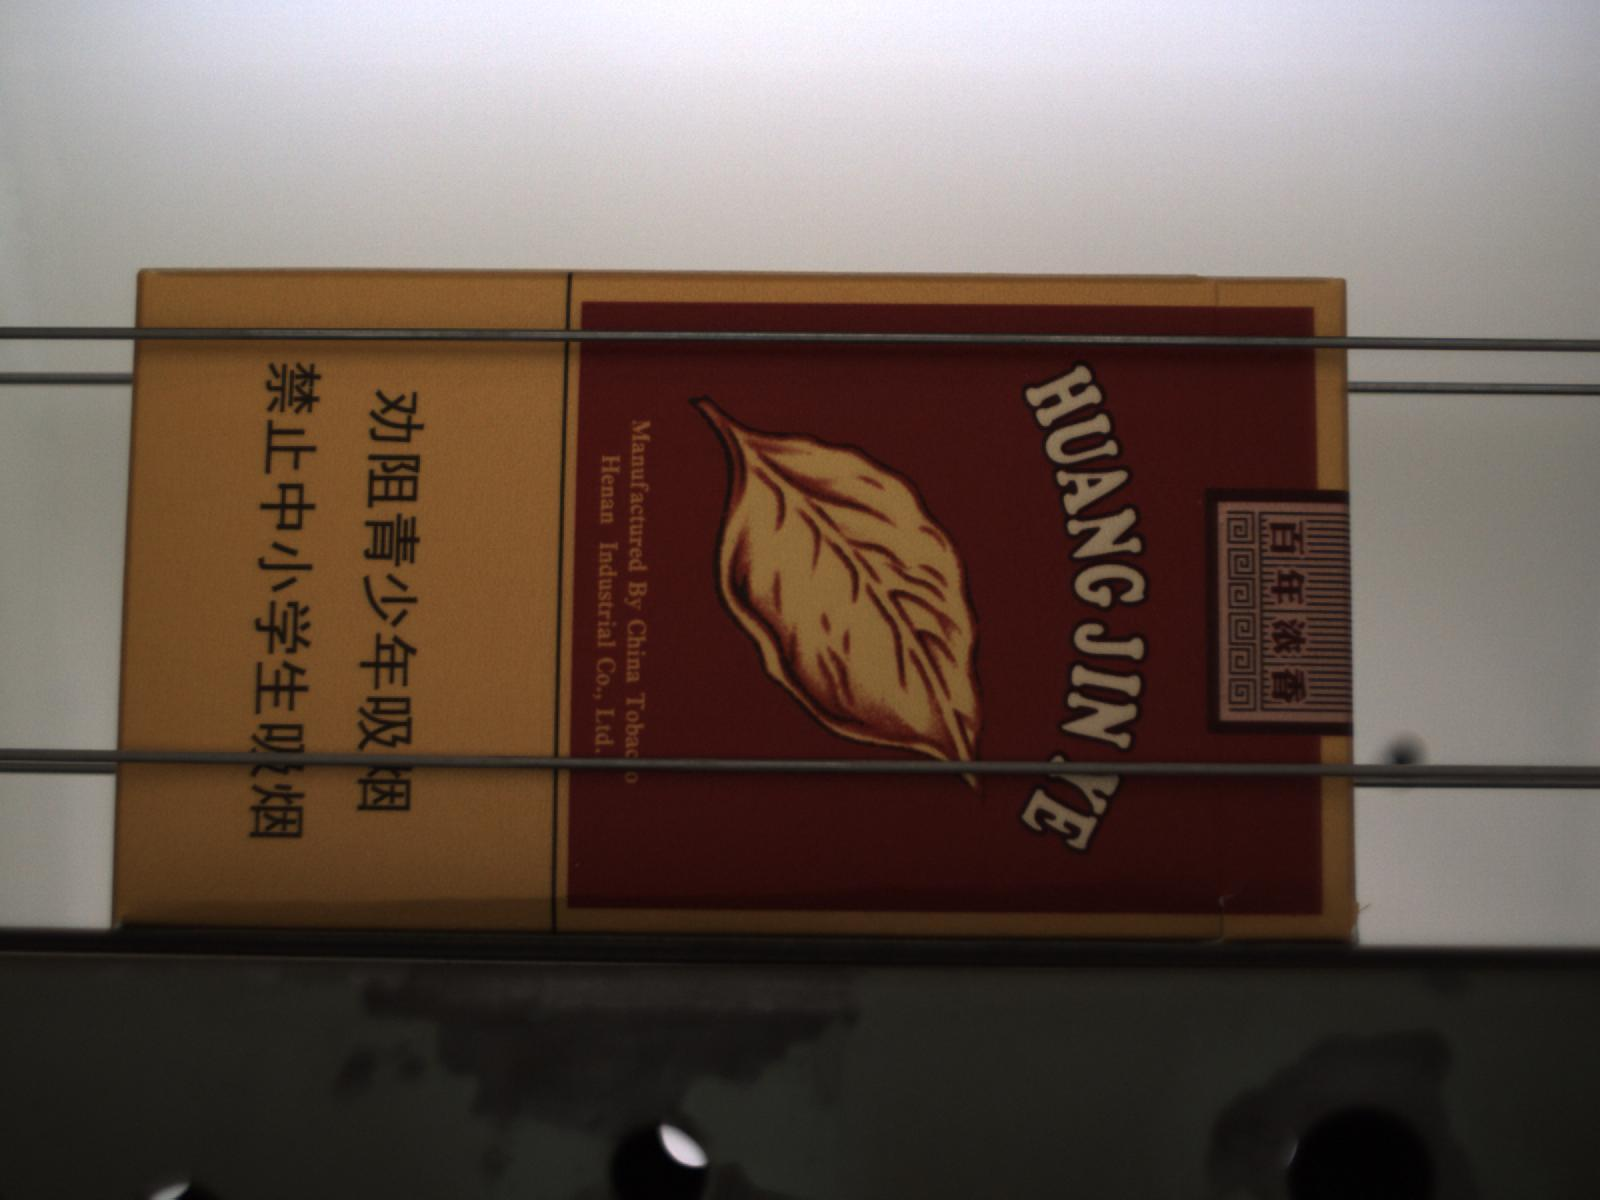boxDamage_slight: (197, 877, 1293, 944)
